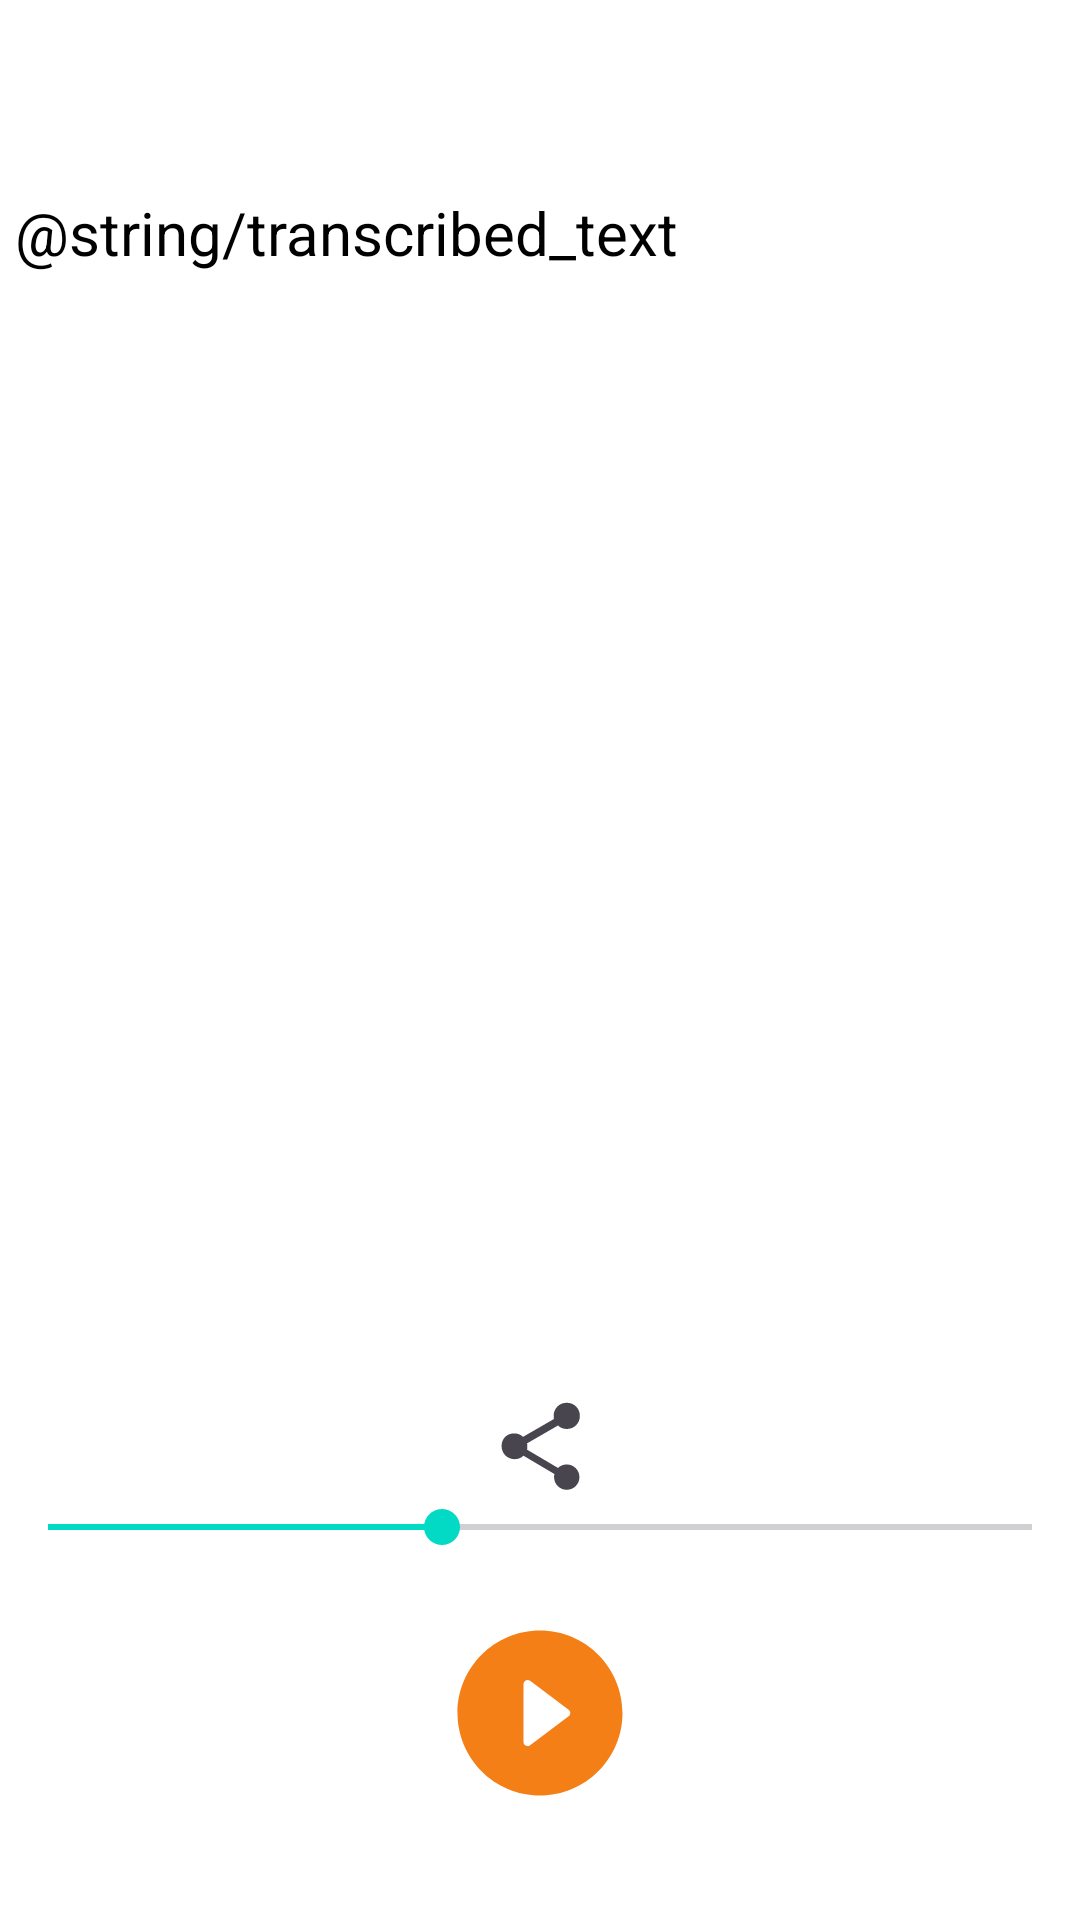

Icon bounding boxes for this 1080px x 1920px phone screenshot, format (x1, y1, x2, y2):
play circle: (457, 1630, 623, 1796)
